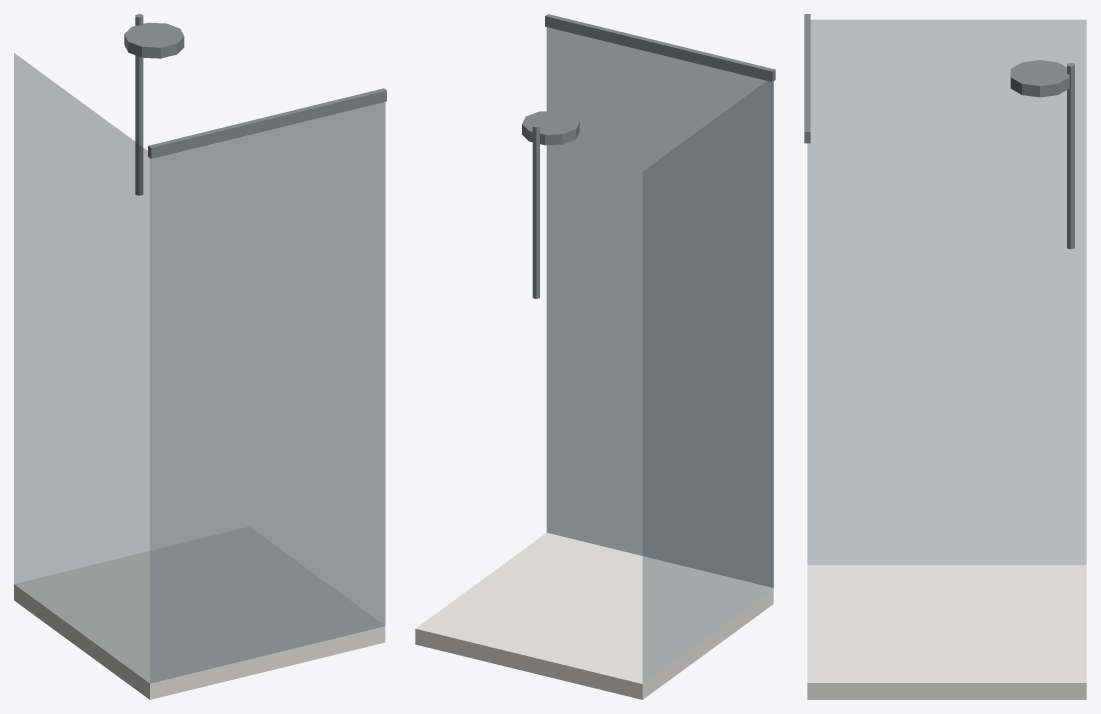
Rendered from Shower.glb.
The picture shows the model from 3 angles, left to right: view 1: azimuth 30°, elevation 25°; view 2: azimuth 150°, elevation 25°; view 3: azimuth 270°, elevation 25°; orthographic projection. The views are drawn at different scales.
Parts seen in each view (by area): view 1: Shower; view 2: Shower; view 3: Shower.
Boxes of the visible parts, bbox=[...] form: Shower: bbox=[14, 14, 386, 699]; Shower: bbox=[415, 14, 775, 699]; Shower: bbox=[804, 14, 1086, 699].
Size of the model in its own units: 0.9012 by 2.05 by 0.91.
2 materials, 1 textured.
